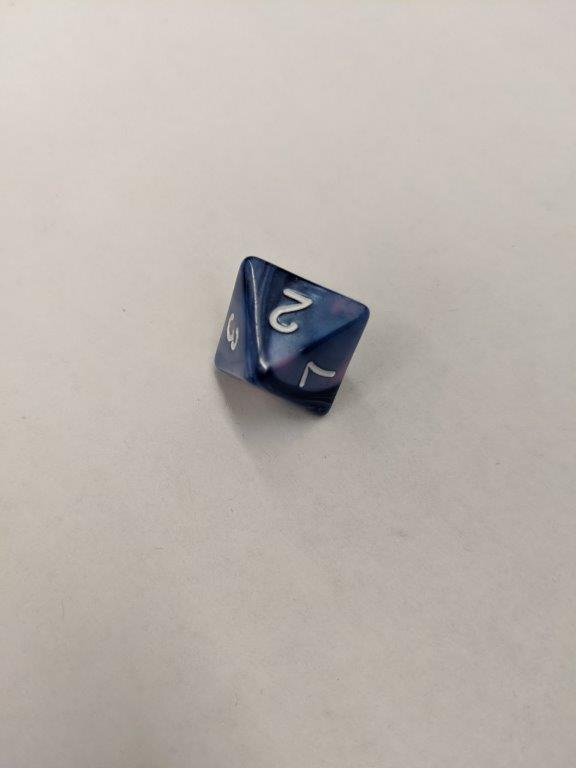d8-2: (213, 257, 371, 420)
